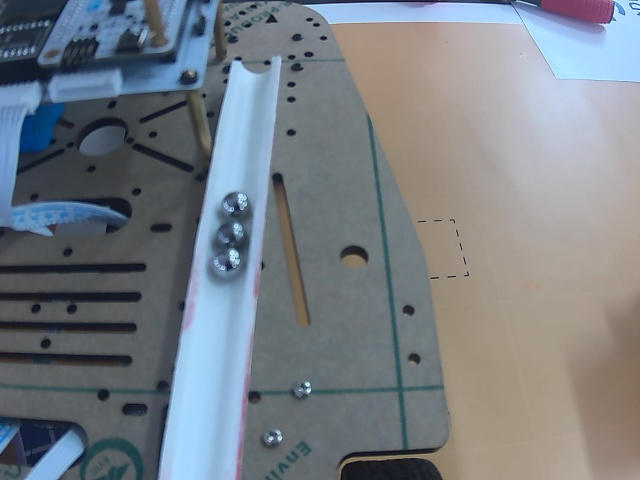steelball: (212, 248, 242, 277), (220, 192, 250, 217), (216, 221, 243, 245)
